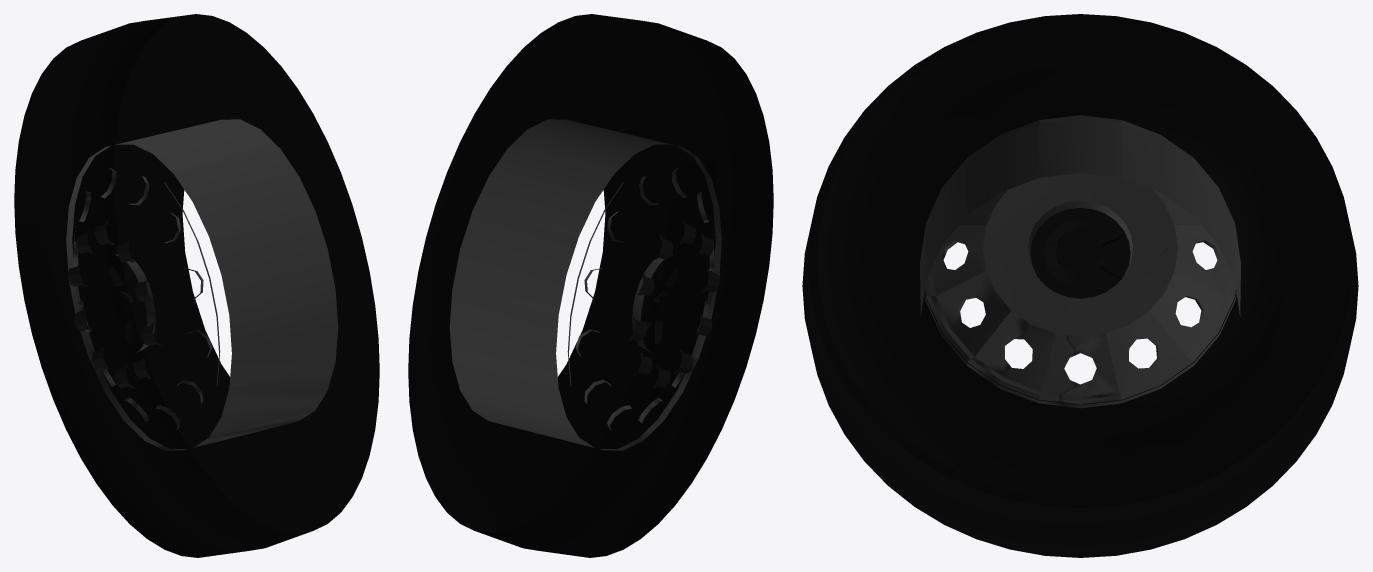
The model's file is Wheel_F_Semi.glb.
The picture shows the model from 3 angles, left to right: view 1: azimuth 30°, elevation 25°; view 2: azimuth 150°, elevation 25°; view 3: azimuth 270°, elevation 25°; orthographic projection. The views are drawn at different scales.
Parts seen in each view (by area): view 1: Wheel_Semi_F; view 2: Wheel_Semi_F; view 3: Wheel_Semi_F.
Part boxes in pixels (bbox=[...]): Wheel_Semi_F: bbox=[14, 14, 379, 557]; Wheel_Semi_F: bbox=[408, 14, 773, 557]; Wheel_Semi_F: bbox=[802, 14, 1358, 557].
Bounding box in the file's own units: 0.3292 × 1.02 × 1.02.
Materials: 2 (2 with a texture image).
